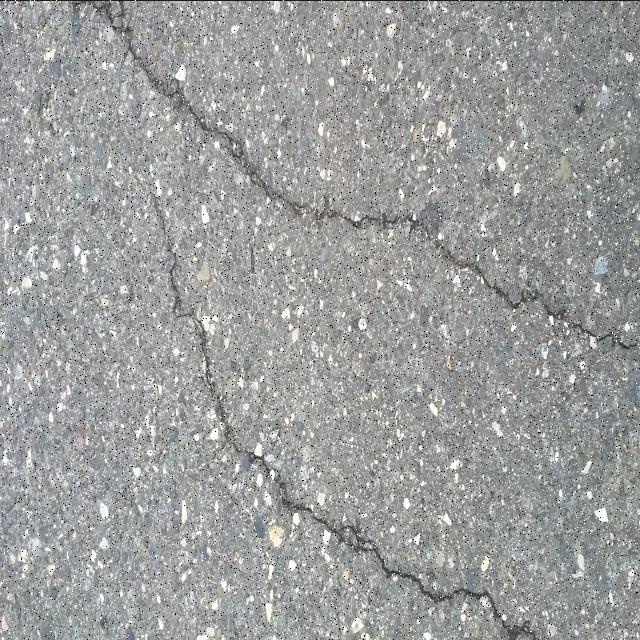Crack: (67, 0, 612, 344), (154, 199, 553, 640)
